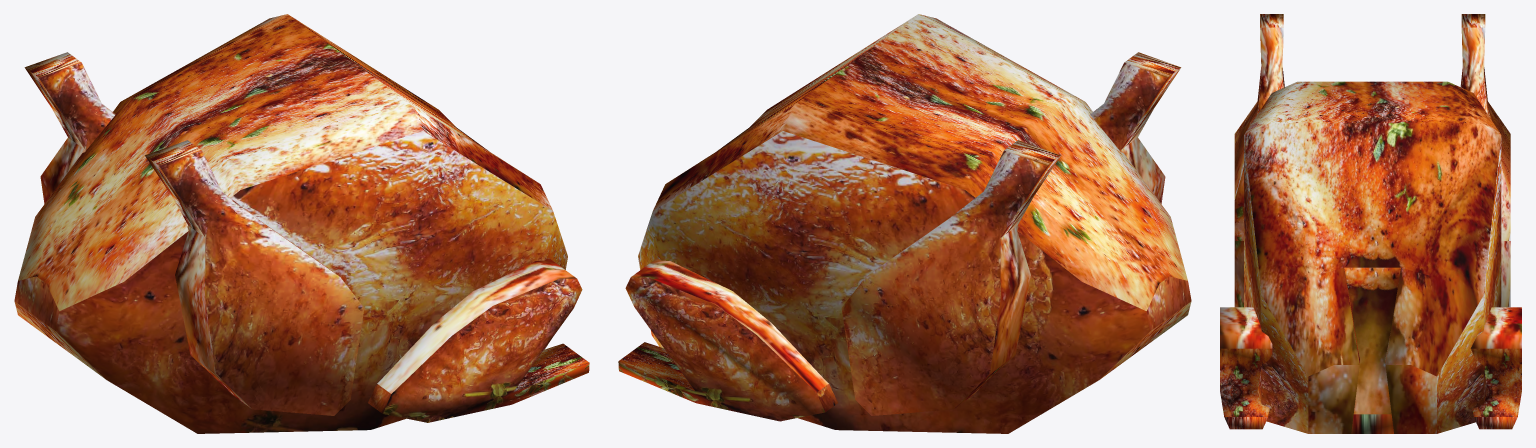
Rendered from Turkey.fbx.
The picture shows the model from 3 angles, left to right: view 1: azimuth 30°, elevation 25°; view 2: azimuth 150°, elevation 25°; view 3: azimuth 270°, elevation 25°; orthographic projection. The views are drawn at different scales.
Parts seen in each view (by area): view 1: Cube.058; view 2: Cube.058; view 3: Cube.058.
Boxes of the visible parts, bbox=[...] form: Cube.058: bbox=[14, 14, 589, 433]; Cube.058: bbox=[618, 14, 1191, 433]; Cube.058: bbox=[1220, 14, 1521, 433].
Bounding box in the file's own units: 125 × 74.77 × 78.31.
